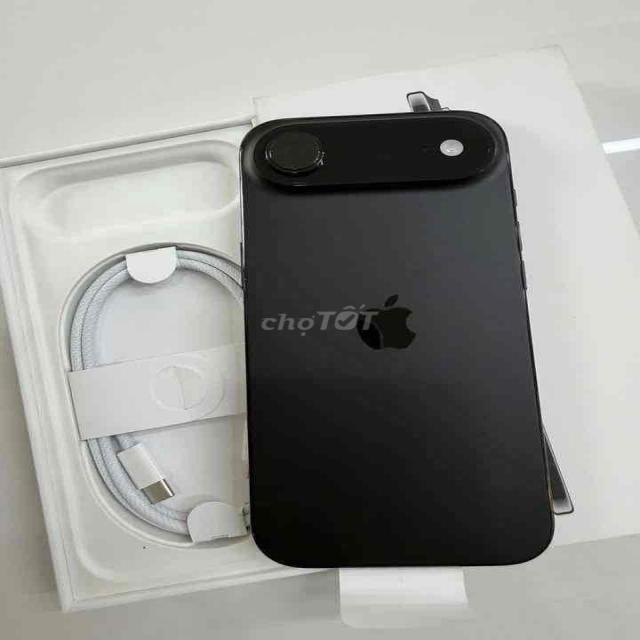gen_17: (213, 103, 572, 586)
